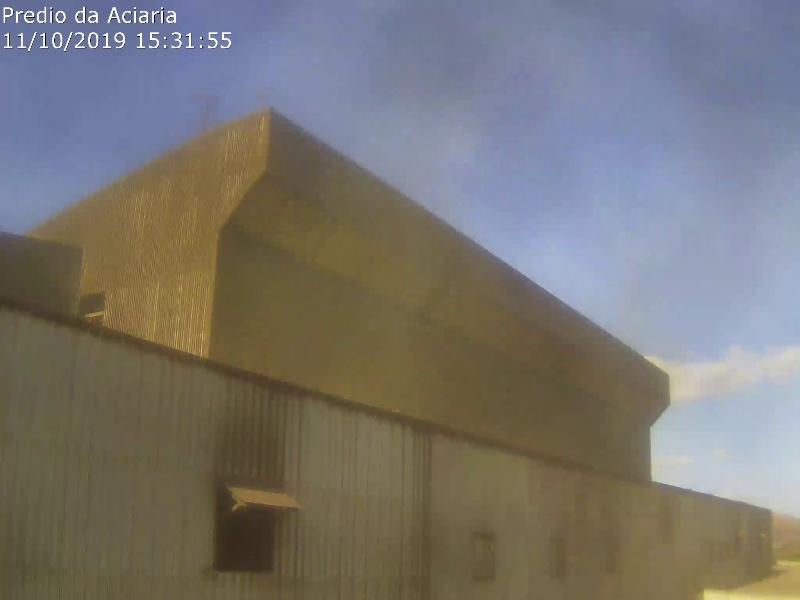ruim: (258, 119, 462, 422)
